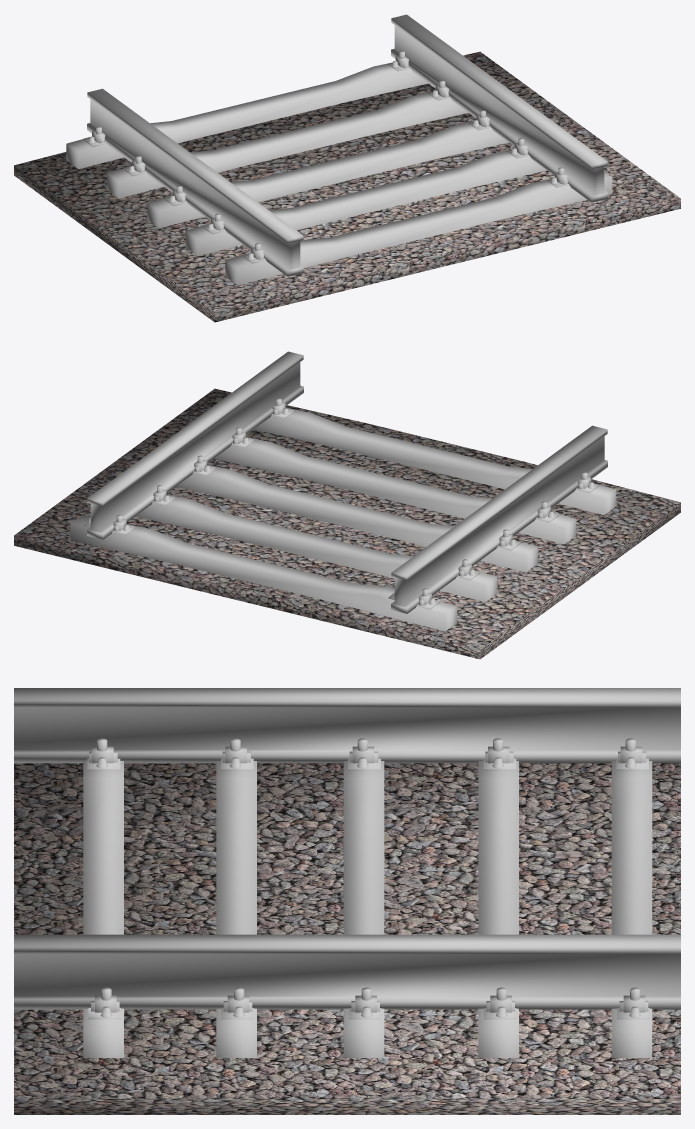
File: track_straigh_concrete.fbx
The picture shows the model from 3 angles, top to bottom: view 1: azimuth 30°, elevation 25°; view 2: azimuth 150°, elevation 25°; view 3: azimuth 270°, elevation 25°; orthographic projection. The views are drawn at different scales.
Visible parts, largest first — view 1: ground, concrete, rails; view 2: ground, concrete, rails; view 3: ground, rails, concrete.
Part boxes in pixels (x1=…): ground: x1=14, y1=51, x2=680, y2=322; concrete: x1=66, y1=63, x2=612, y2=285; rails: x1=83, y1=14, x2=607, y2=276; ground: x1=14, y1=388, x2=680, y2=659; concrete: x1=70, y1=407, x2=616, y2=631; rails: x1=84, y1=351, x2=607, y2=613; ground: x1=14, y1=763, x2=680, y2=1114; rails: x1=14, y1=688, x2=680, y2=1019; concrete: x1=83, y1=761, x2=652, y2=1057.
Bounding box in the file's own units: 2.85 × 0.381 × 2.13.
